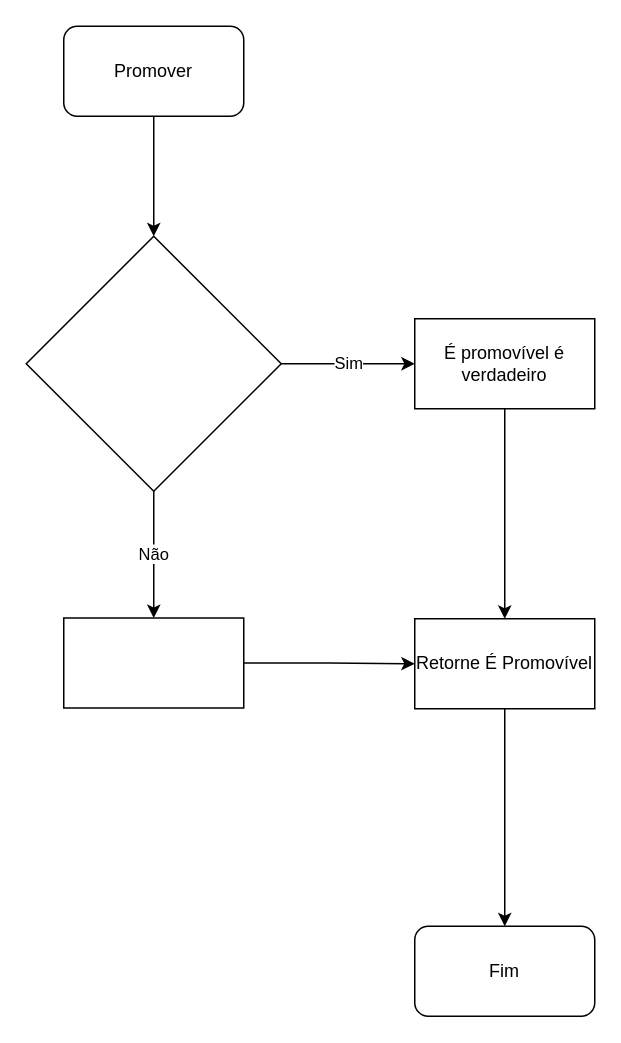
The diagram is 621 pixels wide and 1043 high, and some of its shapes have lost their labels. Here are the shapes that lost their labels. From the top down, the centre of each, then its label:
the point at 153,363: Funcionário é Nível Junior?
the point at 153,662: É promovível é falso
